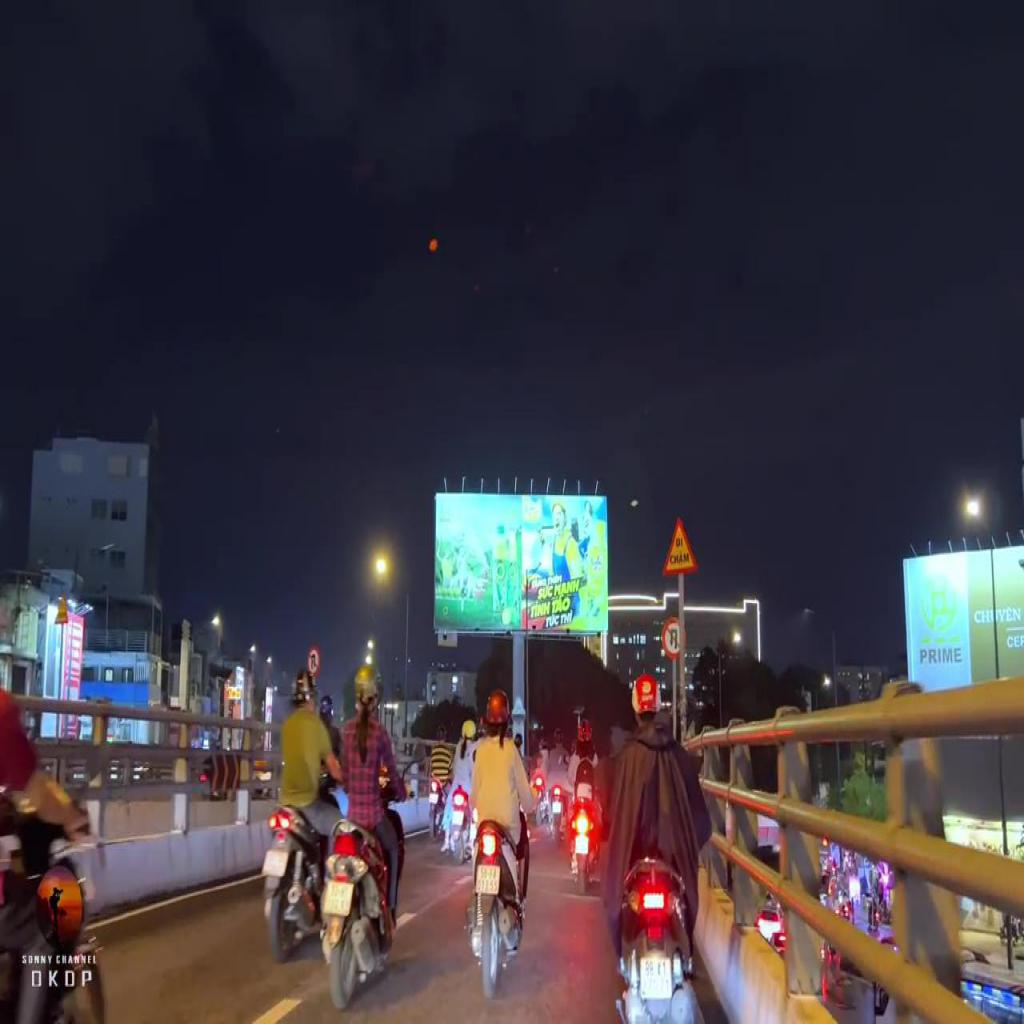cam_quay_dau_xe: (660, 616, 686, 661), (308, 647, 320, 674)
di_cham: (662, 515, 698, 576)
